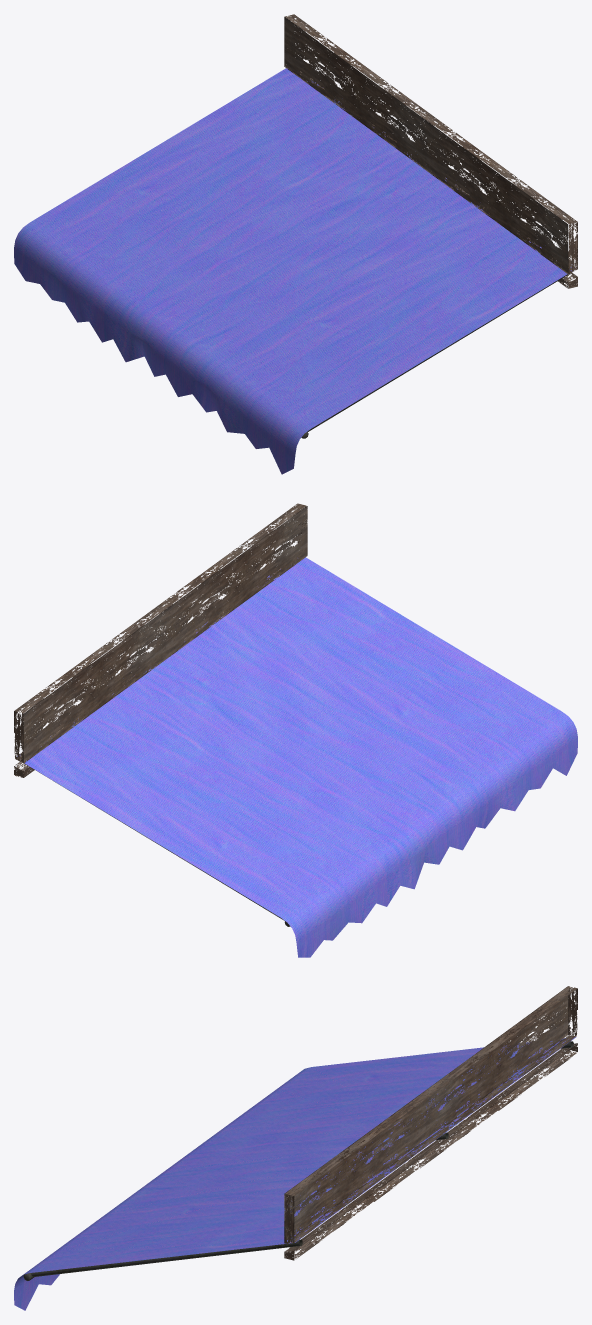
Rendered from SM_tent_01.fbx.
3 views of the same model, one above another, from view 1: azimuth 30°, elevation 25°; view 2: azimuth 150°, elevation 25°; view 3: azimuth 330°, elevation 25° (orthographic).
Visible parts, largest first — view 1: SM_tent_01_LOD0; view 2: SM_tent_01_LOD0; view 3: SM_tent_01_LOD0.
Boxes of the visible parts, x1,y1,x2,y2 form: SM_tent_01_LOD0: (14, 14, 577, 474); SM_tent_01_LOD0: (14, 503, 577, 957); SM_tent_01_LOD0: (14, 986, 577, 1310).
Size of the model in its own units: 233 by 400 by 151.
3 materials, 3 textured.
